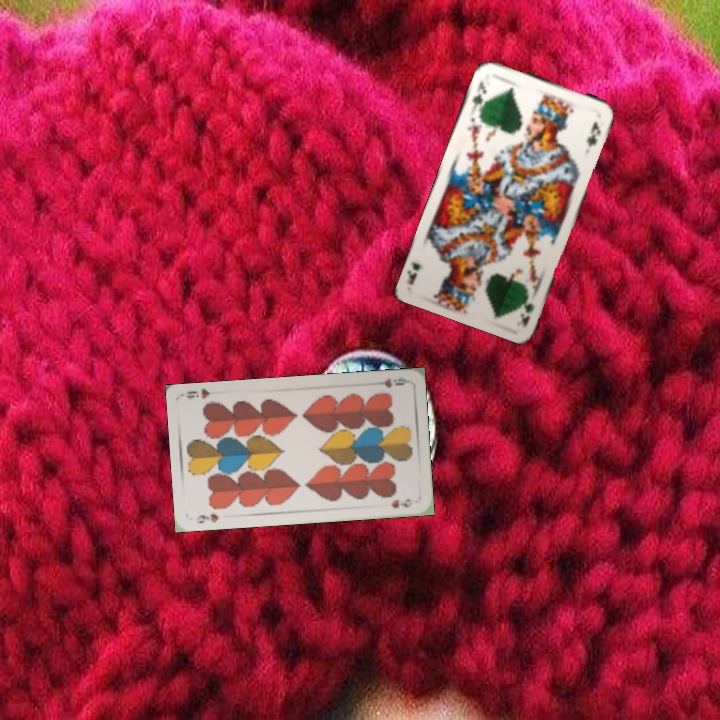GK: (517, 289, 537, 329), (468, 77, 489, 112)
H9: (369, 373, 409, 390), (193, 509, 221, 526)
